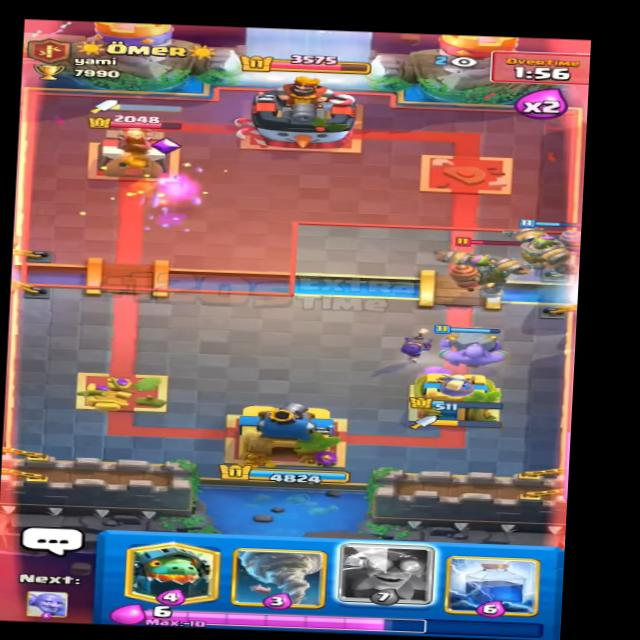goblin-machine: (424, 236, 538, 293)
